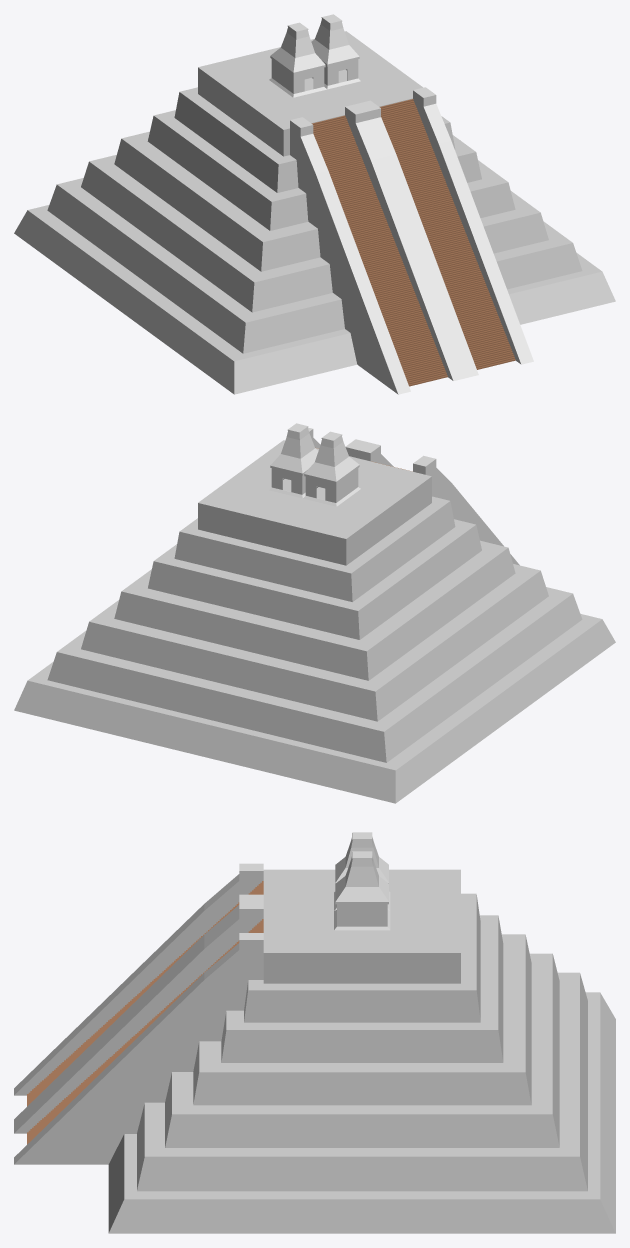
The model's file is TemploMayorNuevo.fbx.
The picture shows the model from 3 angles, top to bottom: view 1: azimuth 30°, elevation 25°; view 2: azimuth 150°, elevation 25°; view 3: azimuth 270°, elevation 25°; orthographic projection. The views are drawn at different scales.
Parts seen in each view (by area): view 1: Cube.012; view 2: Cube.012; view 3: Cube.012.
Part boxes in pixels (x1=…): Cube.012: x1=14, y1=14, x2=615, y2=394; Cube.012: x1=14, y1=423, x2=615, y2=803; Cube.012: x1=14, y1=832, x2=615, y2=1233.
Bounding box in the file's own units: 90 × 55.09 × 107.
